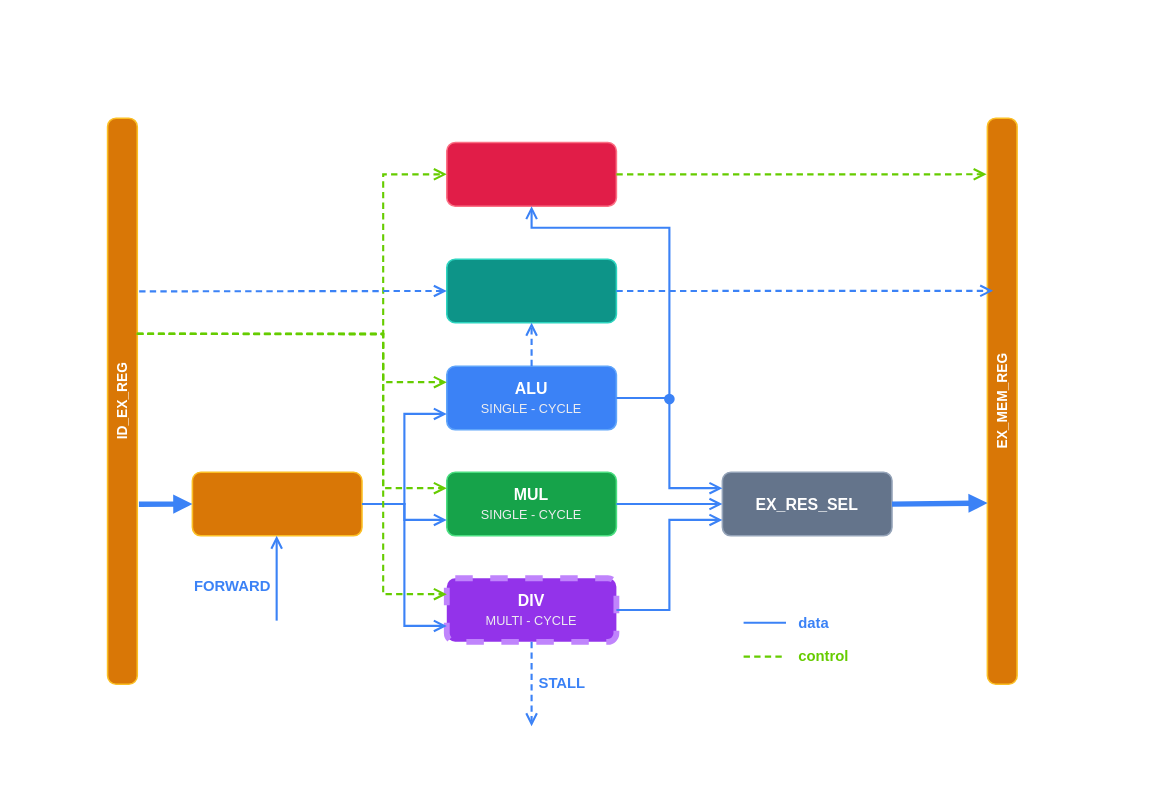
The diagram is 1172 pixels wide and 799 high, and some of its shapes have lost their labels. The centre of each missing label's shape, as x and y in pixels:
"BRANCH" goes at pixel 531 290.
"MISALIGNED_DET" goes at pixel 531 173.
"OPERAND_SEL" goes at pixel 276 503.
